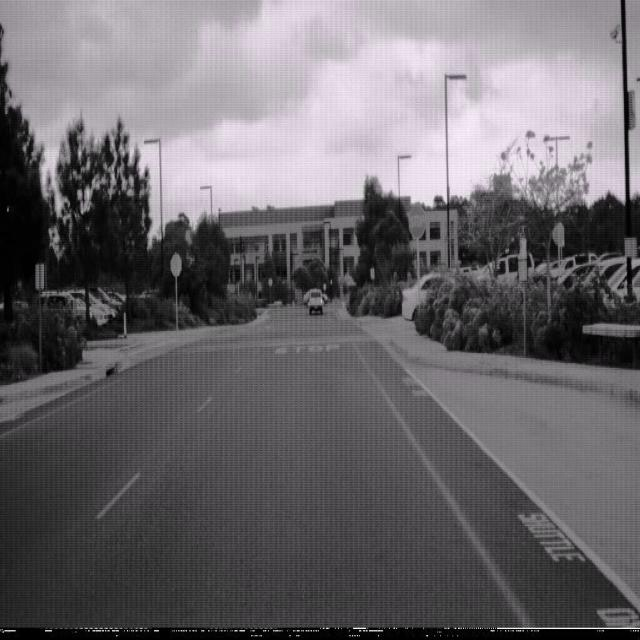stop_sign: (408, 201, 427, 240)
